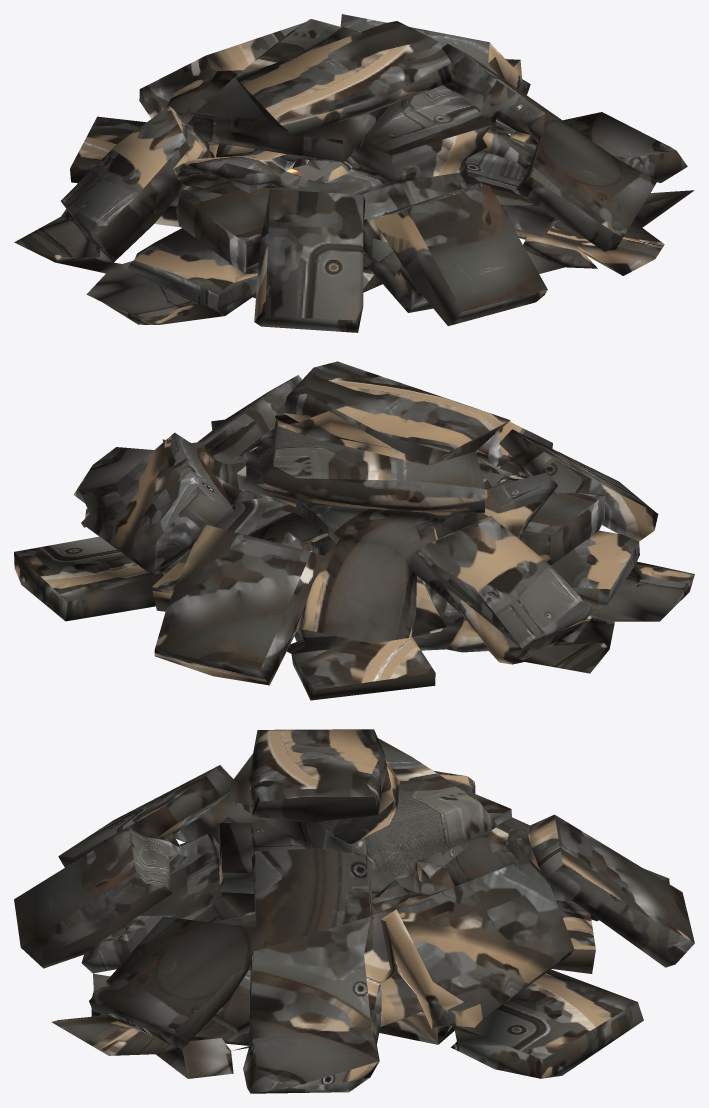
The model's file is ScatteredBooks.fbx.
The picture shows the model from 3 angles, top to bottom: view 1: azimuth 30°, elevation 25°; view 2: azimuth 150°, elevation 25°; view 3: azimuth 270°, elevation 25°; orthographic projection. The views are drawn at different scales.
Parts seen in each view (by area): view 1: mesh_node; view 2: mesh_node; view 3: mesh_node.
Part boxes in pixels (bbox=[...]): mesh_node: bbox=[14, 14, 694, 332]; mesh_node: bbox=[14, 361, 694, 700]; mesh_node: bbox=[14, 729, 694, 1093].
Bounding box in the file's own units: 1.93 × 0.5657 × 1.82.
